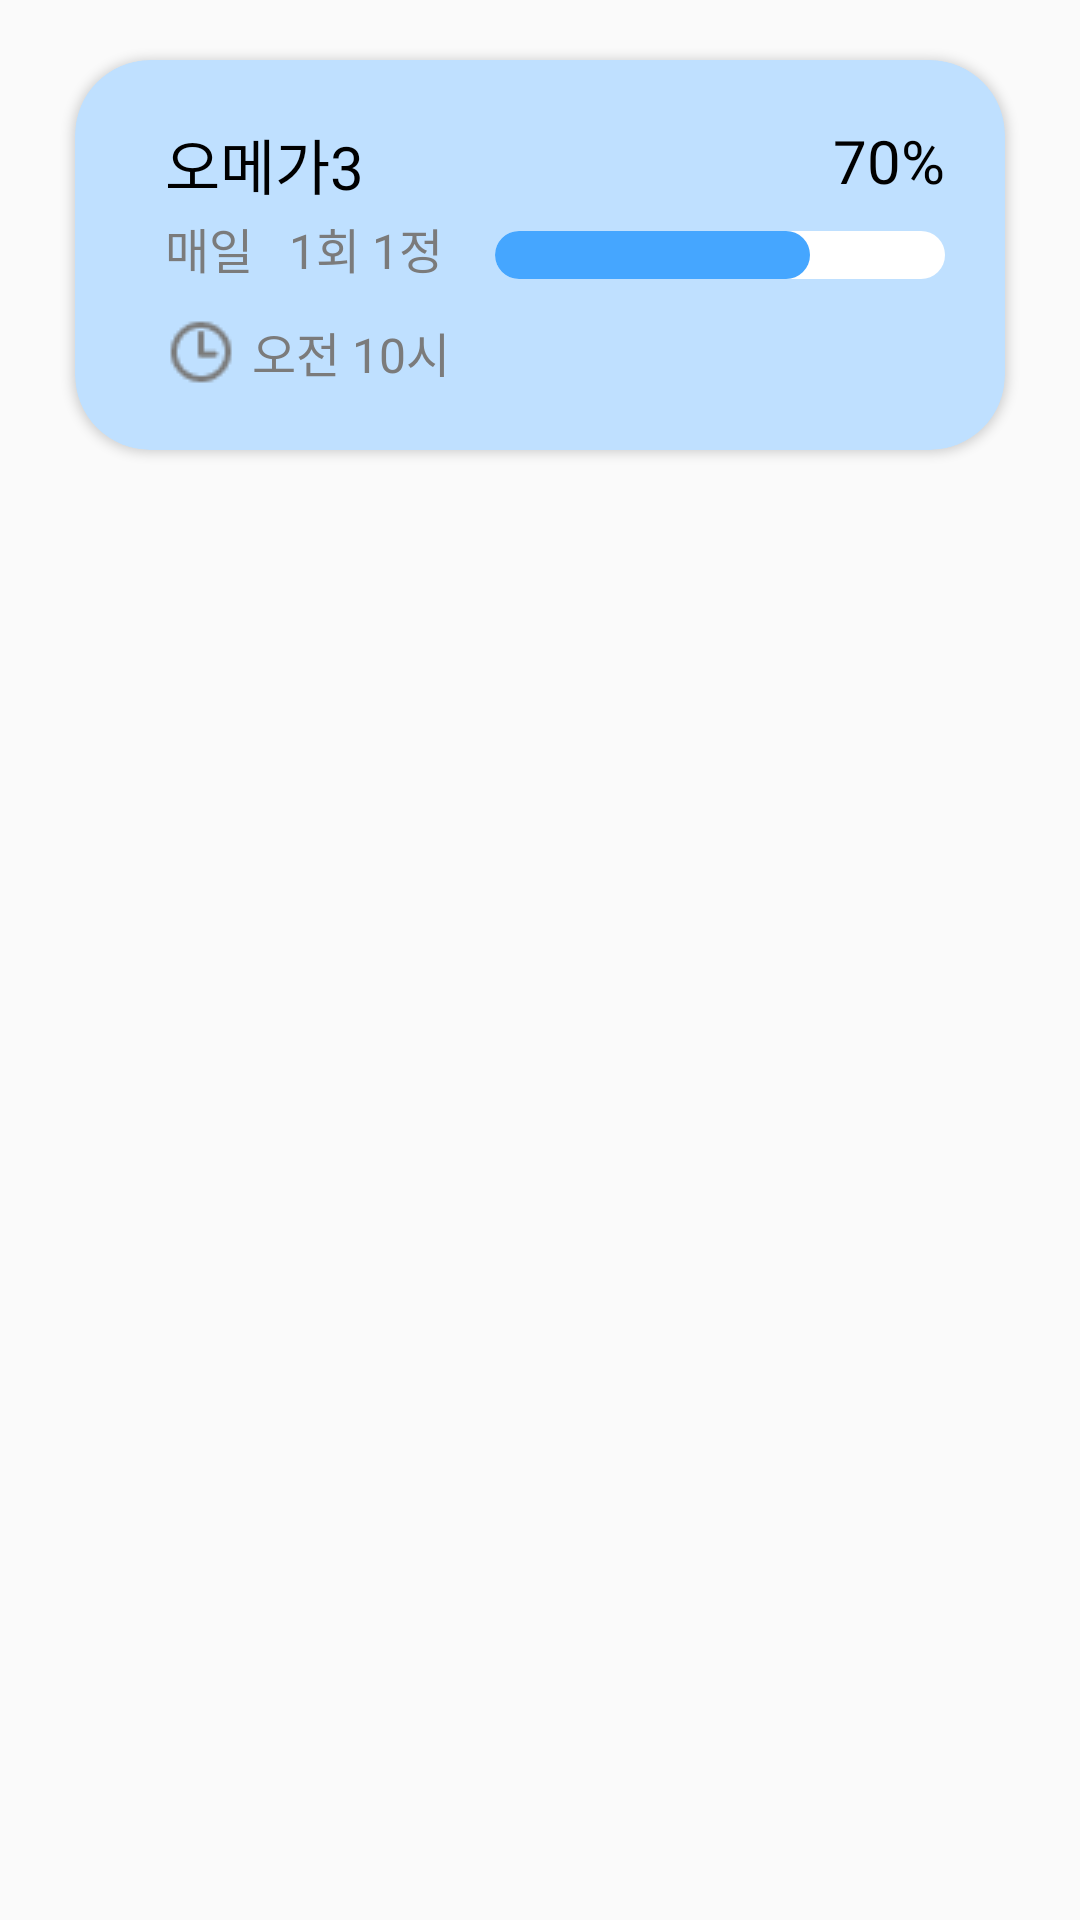

Named icons in this screenshot (1080w x 1920h) and their centers, (x=x, y=y):
clock: (x=201, y=352)
